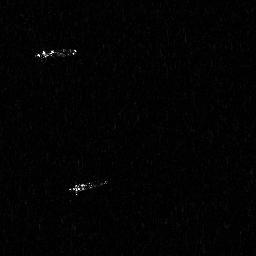ship: (65, 177, 112, 197), (34, 46, 77, 61)
